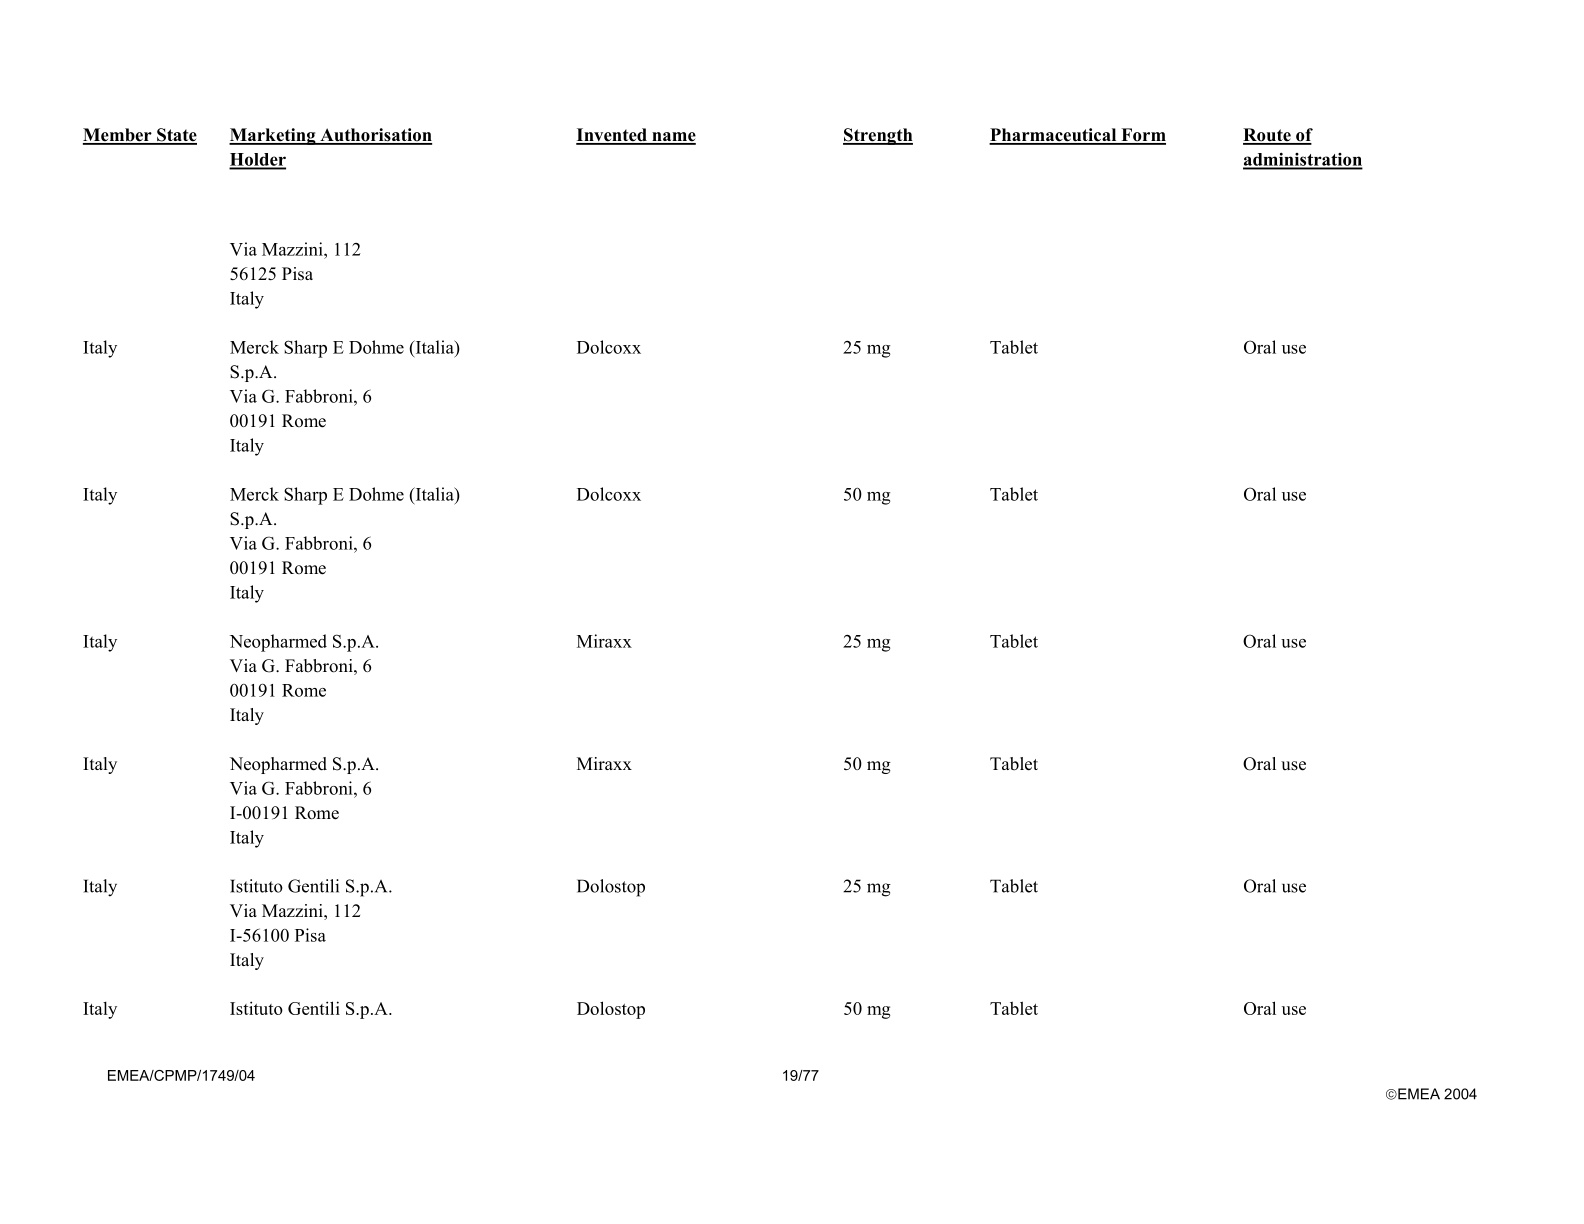nolines: (81, 123, 1368, 1021)
